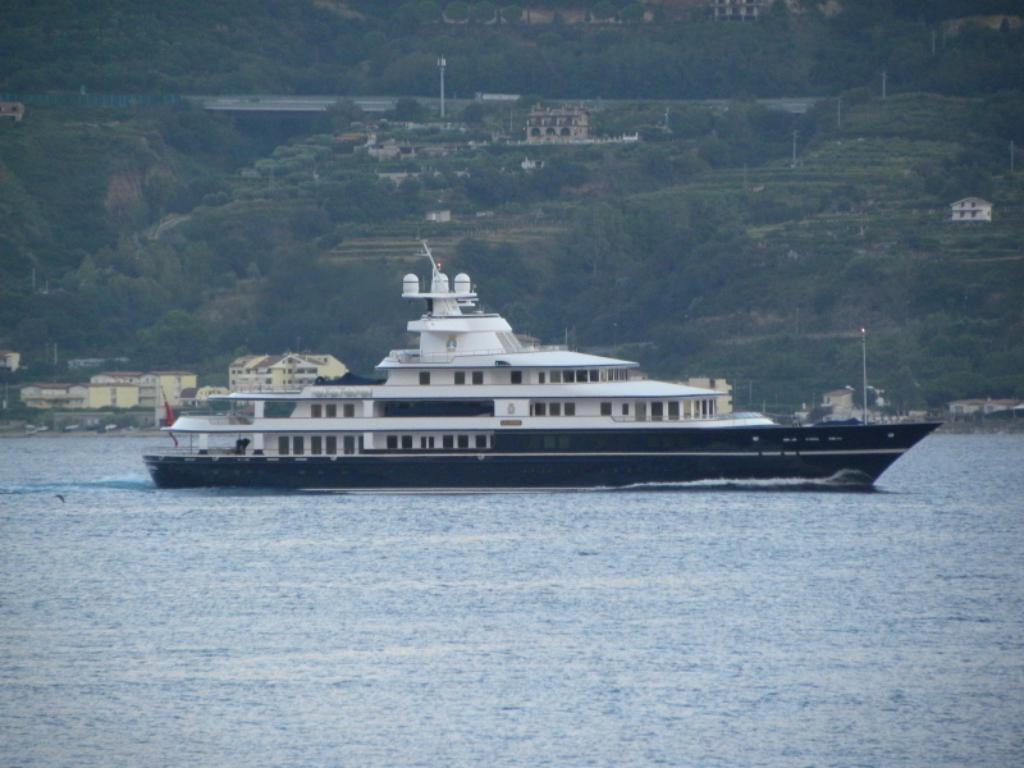PassengerShip: (140, 263, 948, 491)
